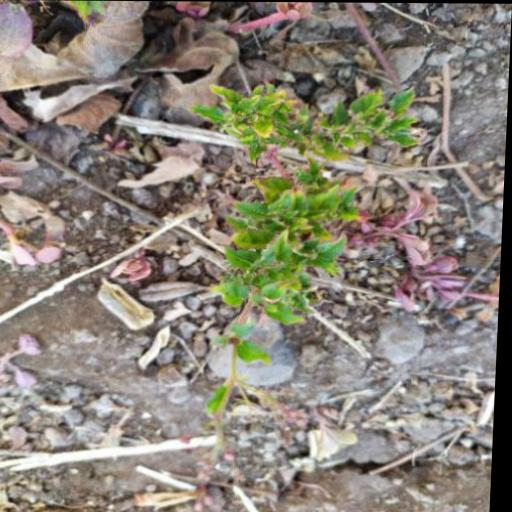crop: (189, 72, 413, 453)
